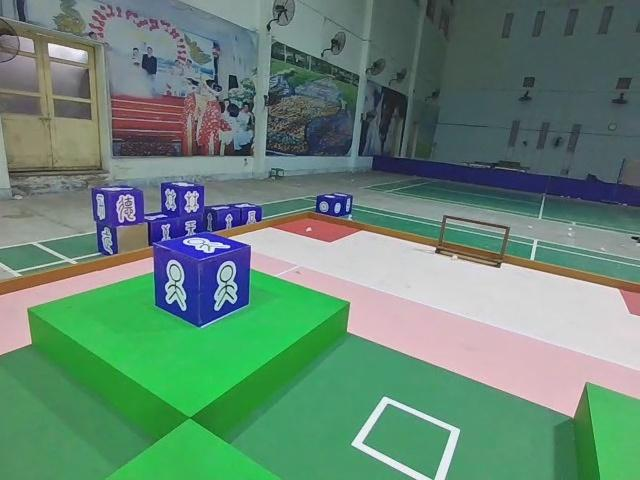R2 Fake Blue: (93, 186, 148, 229), (92, 222, 118, 260)
R2 Real Blue: (152, 233, 252, 329)
